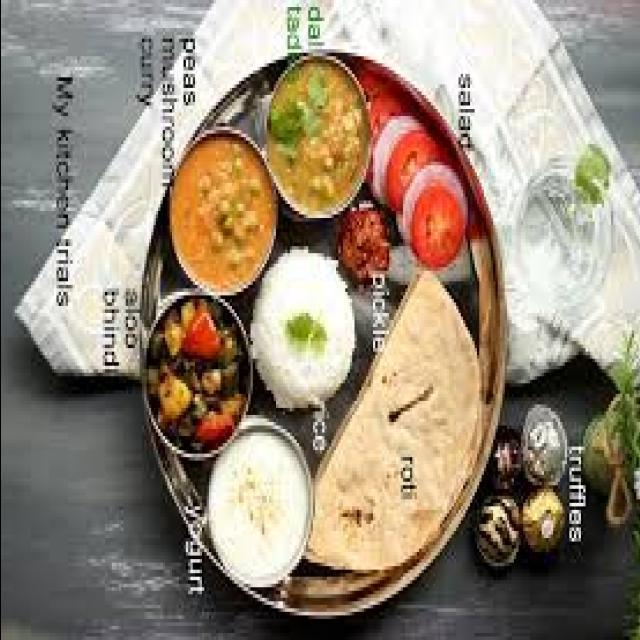papad: (323, 276, 479, 576)
pickle: (381, 131, 475, 296)
raita: (192, 405, 328, 615)
rice: (245, 235, 357, 428), (504, 159, 606, 350)
veg-fry: (161, 116, 275, 304), (143, 289, 251, 469)
